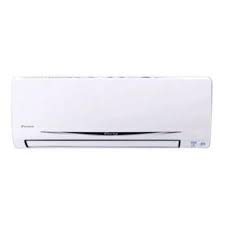ac: (9, 72, 217, 154)
